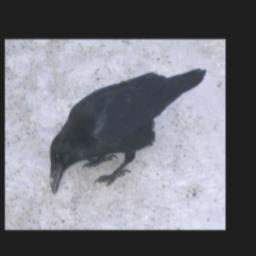Crow: (50, 68, 208, 194)
